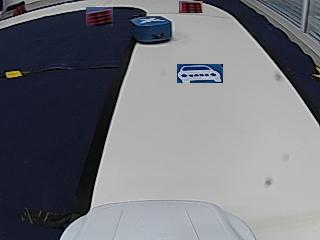prop: (131, 17, 174, 45)
